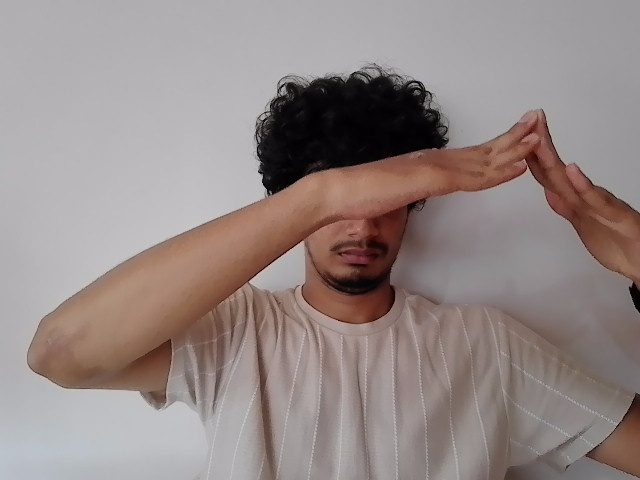home: (325, 107, 640, 286)
